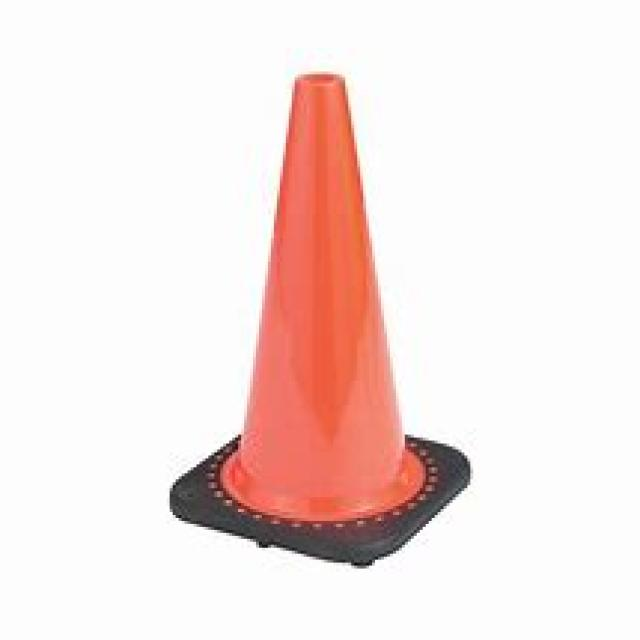traffic cone: (151, 65, 486, 575)
